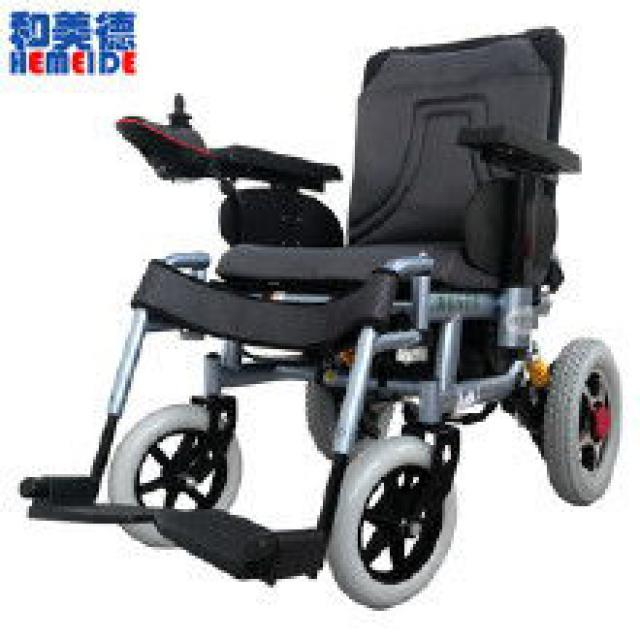wheelchair: (0, 23, 617, 637)
